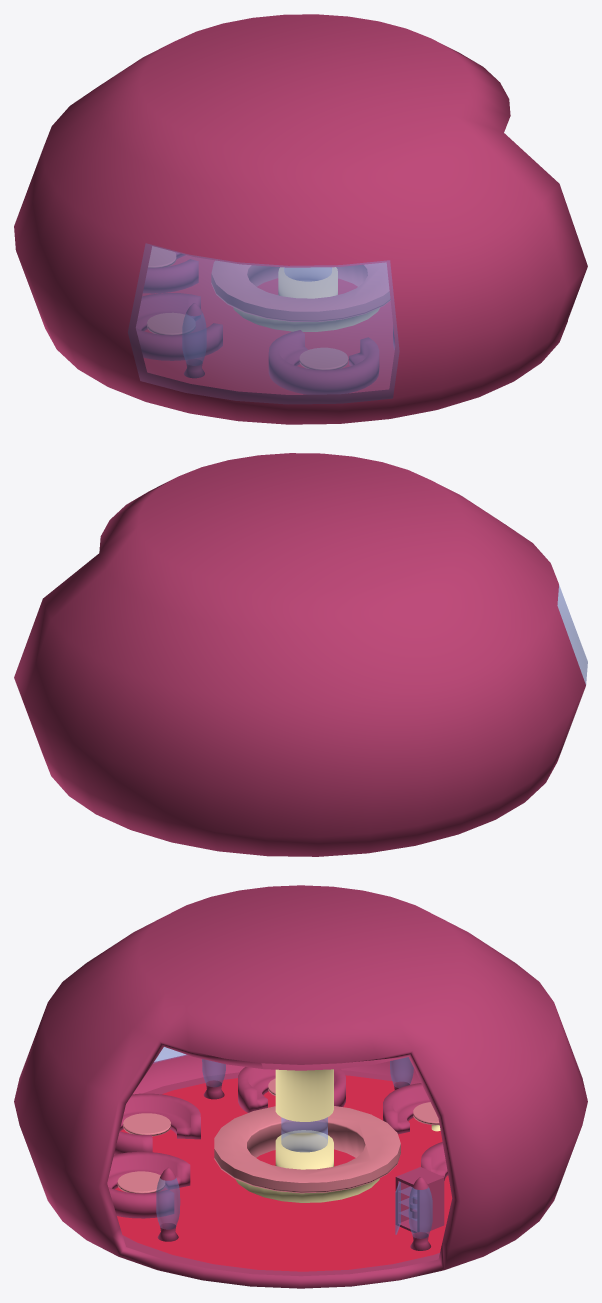
Rendered from cafeta.fbx.
The picture shows the model from 3 angles, top to bottom: view 1: azimuth 30°, elevation 25°; view 2: azimuth 150°, elevation 25°; view 3: azimuth 270°, elevation 25°; orthographic projection.
Parts seen in each view (by area): view 1: Cylinder, Circle, Cylinder.003, Cylinder.001, Cylinder.006, Cylinder.004, Cylinder.007; view 2: Cylinder; view 3: Cylinder, Circle, Cylinder.003, Cylinder.002, Cylinder.001, Cube.001, Cylinder.004, Cylinder.006, Cylinder.010, Cylinder.012, Cylinder.007, Cylinder.005 (+1 smaller).
Boxes of the visible parts, <box> form: Cylinder: <box>14,14,587,424</box>; Circle: <box>142,255,394,394</box>; Cylinder.003: <box>211,261,390,331</box>; Cylinder.001: <box>269,330,378,394</box>; Cylinder.006: <box>136,293,222,360</box>; Cylinder.004: <box>143,246,198,293</box>; Cylinder.007: <box>182,303,206,377</box>; Cylinder: <box>14,453,587,856</box>; Cylinder: <box>14,885,587,1288</box>; Circle: <box>115,1075,452,1271</box>; Cylinder.003: <box>214,1069,400,1202</box>; Cylinder.002: <box>107,1151,190,1218</box>; Cylinder.001: <box>114,1093,200,1154</box>; Cube.001: <box>395,1167,444,1234</box>; Cylinder.004: <box>383,1083,440,1134</box>; Cylinder.006: <box>238,1067,345,1112</box>; Cylinder.010: <box>156,1167,180,1241</box>; Cylinder.012: <box>408,1177,432,1250</box>; Cylinder.007: <box>202,1059,225,1099</box>; Cylinder.005: <box>421,1142,448,1180</box>.
Size of the model in its own units: 1317 by 618 by 1386.
